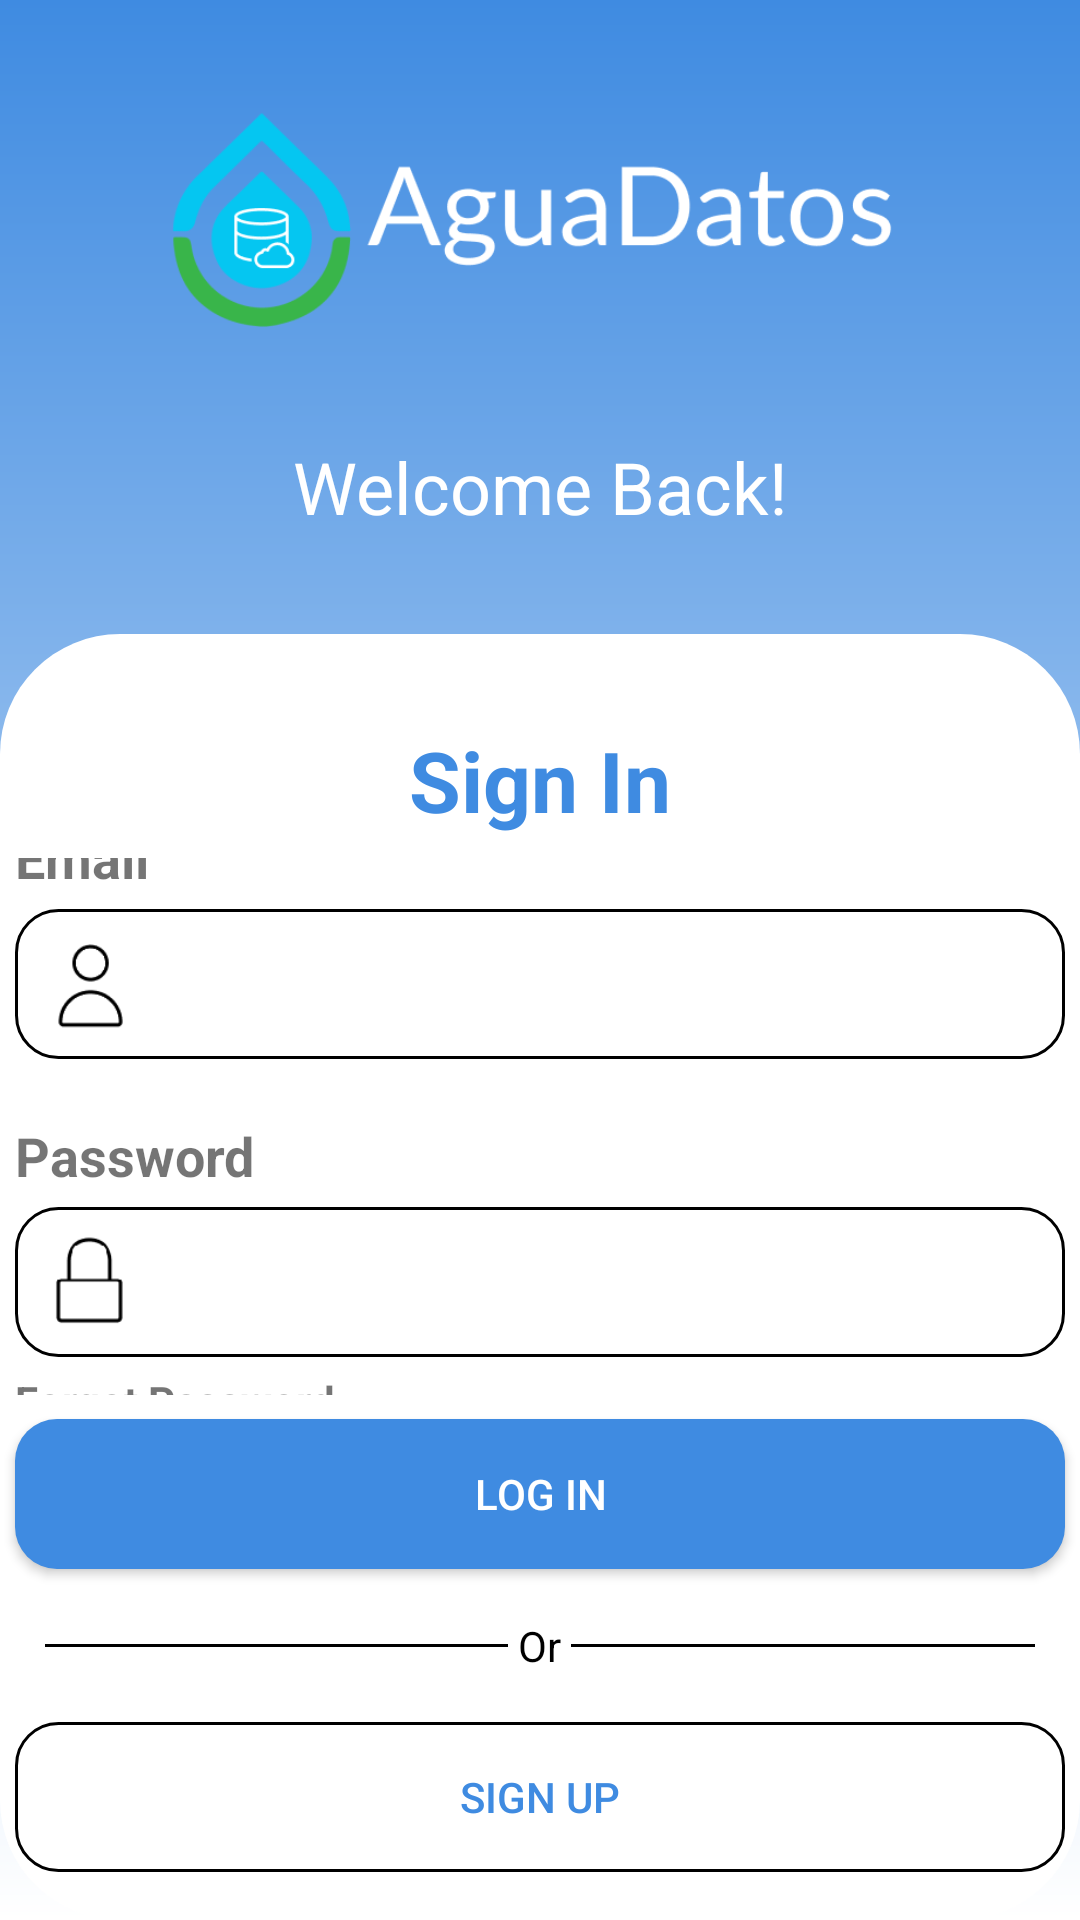

Screen size 1080px×1920px. Icon name, then its center in pixels as (x,y):
Lock icon: (89,1280)
Person icon: (90,986)
